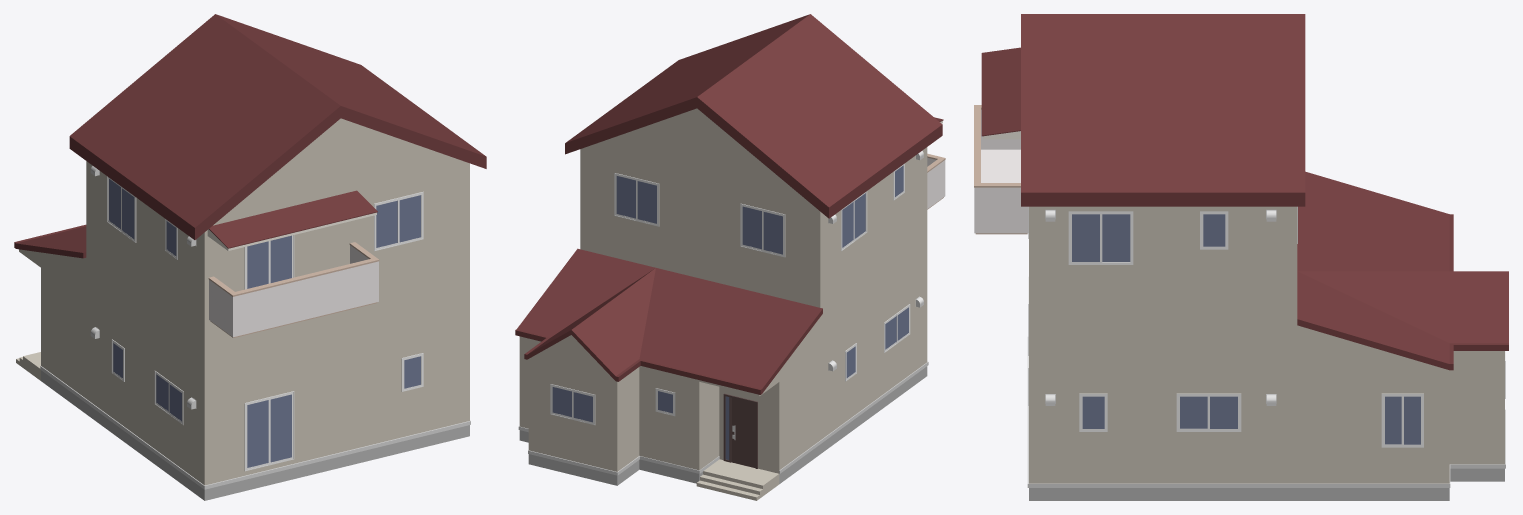
Rendered from MobHouse71.fbx.
3 renders of one model, left to right at view 1: azimuth 30°, elevation 25°; view 2: azimuth 150°, elevation 25°; view 3: azimuth 270°, elevation 25°, orthographic. The views are drawn at different scales.
Visible parts, largest first — view 1: Flat_half_house02.030; view 2: Flat_half_house02.030; view 3: Flat_half_house02.030.
Part boxes in pixels (x1,y1,x2,y2): Flat_half_house02.030: (14,14,486,500); Flat_half_house02.030: (515,14,945,500); Flat_half_house02.030: (974,14,1508,500).
Size of the model in its own units: 7.67 by 9.18 by 10.75.
